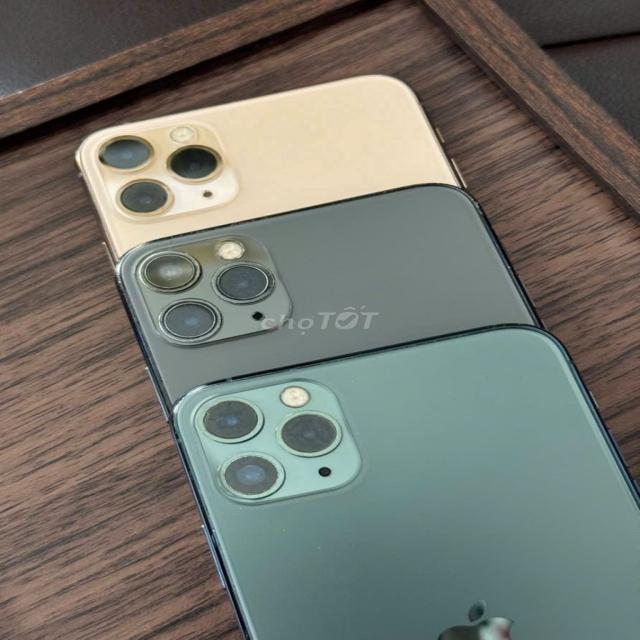gen_11: (173, 322, 640, 640)
